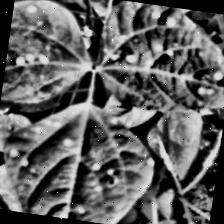Bean Rust: (0, 93, 161, 224), (92, 0, 224, 128), (0, 0, 96, 114)
